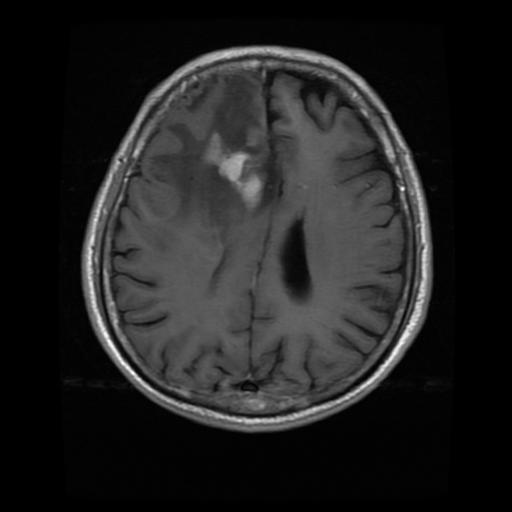Gliomia_tumour: (149, 74, 262, 245)
